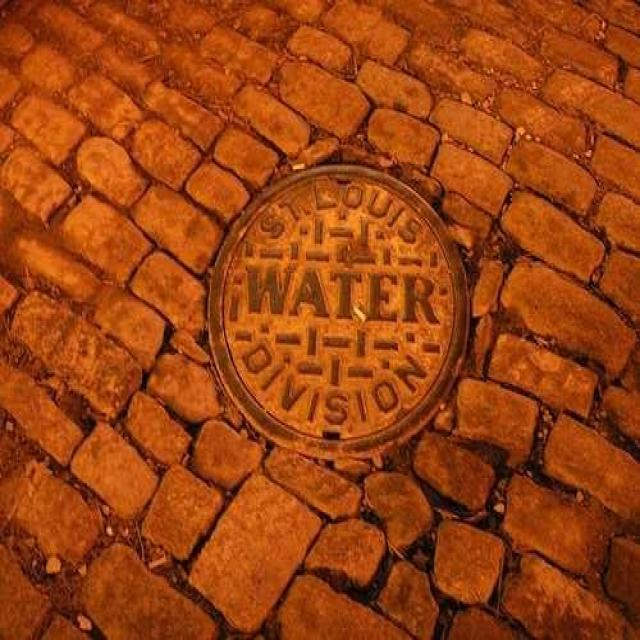manhole: (209, 165, 469, 457)
